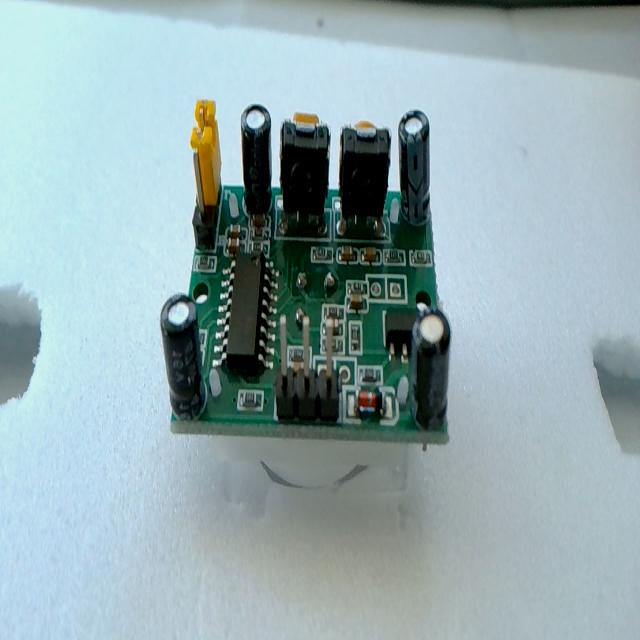Electrolytic capacitor: (160, 294, 206, 423), (409, 306, 451, 431), (397, 108, 431, 226), (240, 104, 273, 218)
IC: (215, 250, 278, 374)
pinheader: (274, 315, 339, 421)
